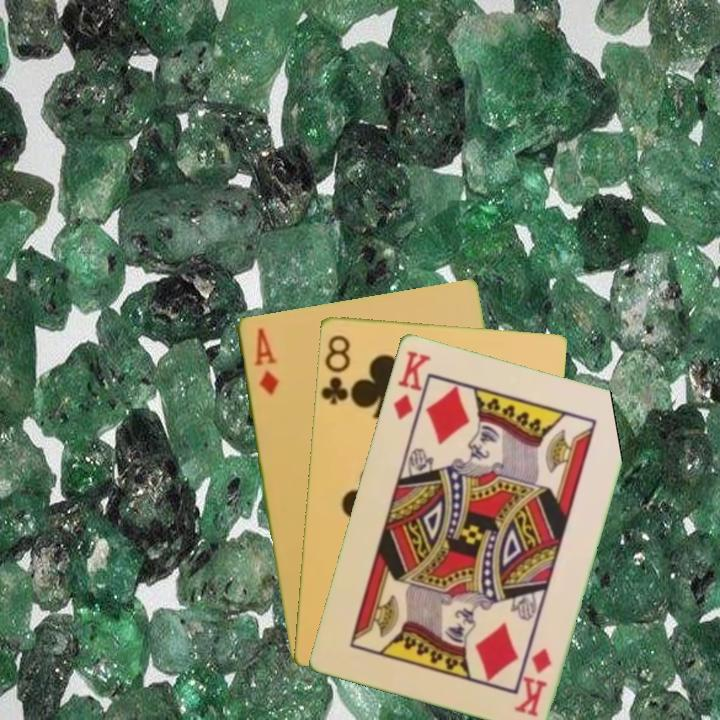8c: (317, 330, 353, 408)
Ad: (249, 323, 281, 398)
Kd: (389, 346, 434, 423), (511, 644, 554, 719)
